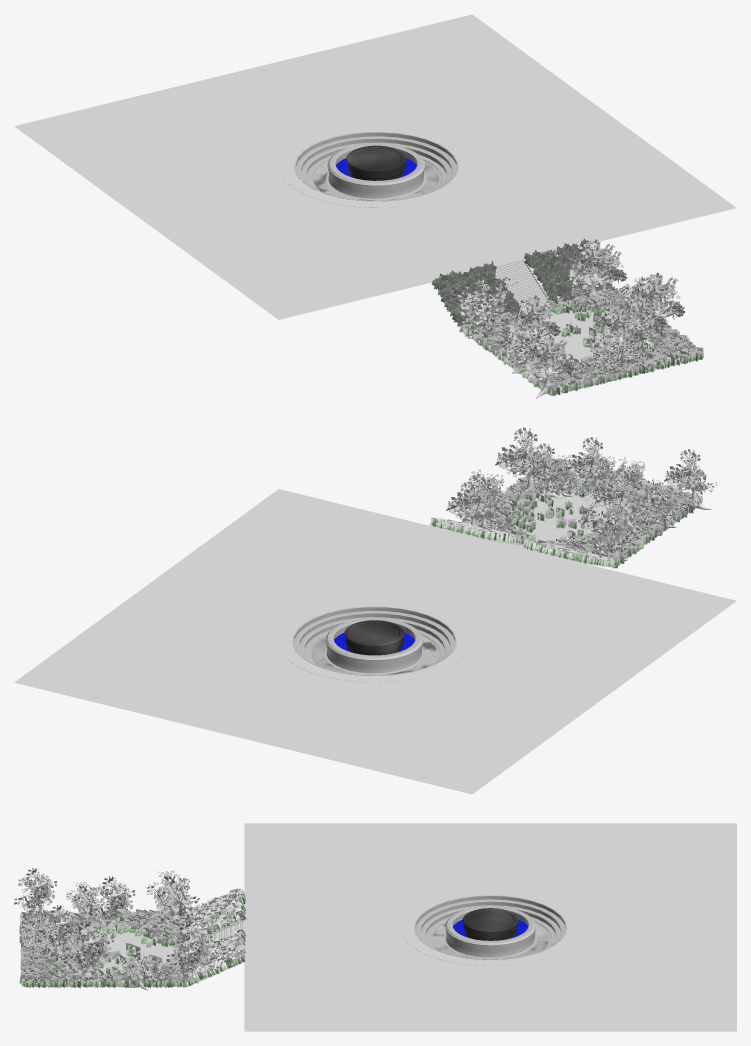
File: vvv.fbx
The picture shows the model from 3 angles, top to bottom: view 1: azimuth 30°, elevation 25°; view 2: azimuth 150°, elevation 25°; view 3: azimuth 270°, elevation 25°; orthographic projection. The views are drawn at different scales.
Parts seen in each view (by area): view 1: Plane.001, fountain, Circle, Plane|tree5|Dupli|23.1, Plane|tree2|Dupli|0.1, Plane, Plane|tree2|Dupli|16.1, Plane|tree2|Dupli|20.1, Plane|tree2|Dupli|4.1, Plane|tree2|Dupli|12.1, Floor, Plane|tree5|Dupli|19.1 (+2 smaller); view 2: Plane.001, fountain, Circle, Plane|tree5|Dupli|23.1, Plane, Plane|tree2|Dupli|4.1, Plane|tree2|Dupli|0.1, Plane|tree2|Dupli|20.1, Plane|tree2|Dupli|16.1, Plane|tree2|Dupli|12.1, Plane|tree5|Dupli|19.1, Plane|tree2|Dupli|8.1 (+2 smaller); view 3: Plane.001, fountain, Circle, Plane|tree2|Dupli|4.1, Plane|tree5|Dupli|23.1, Plane, Plane|tree2|Dupli|16.1, Plane|tree2|Dupli|20.1, Plane|tree2|Dupli|12.1, Plane|tree2|Dupli|0.1, Plane|tree2|Dupli|24.1, Plane|tree5|Dupli|19.1 (+2 smaller).
Boxes of the visible parts, x1,y1,x2,y2 form: Plane.001: (14,14,736,319); fountain: (294,132,458,201); Circle: (279,126,473,207); Plane|tree5|Dupli|23.1: (453,275,518,338); Plane|tree2|Dupli|0.1: (568,239,621,294); Plane: (471,310,695,396); Plane|tree2|Dupli|16.1: (508,295,560,344); Plane|tree2|Dupli|20.1: (525,335,573,398); Plane|tree2|Dupli|4.1: (629,272,684,340); Plane|tree2|Dupli|12.1: (595,304,645,354); Floor: (495,260,549,313); Plane|tree5|Dupli|19.1: (501,327,548,373); Plane.001: (14,489,736,794); fountain: (292,606,456,675); Circle: (277,600,471,682); Plane|tree5|Dupli|23.1: (578,494,635,561); Plane: (511,489,702,558); Plane|tree2|Dupli|4.1: (495,427,556,496); Plane|tree2|Dupli|0.1: (451,473,509,527); Plane|tree2|Dupli|20.1: (664,449,717,509); Plane|tree2|Dupli|16.1: (595,469,652,526); Plane|tree2|Dupli|12.1: (566,437,621,500); Plane|tree5|Dupli|19.1: (640,479,682,528); Plane|tree2|Dupli|8.1: (521,443,569,498); Plane.001: (244,823,736,1031); fountain: (414,895,567,960); Circle: (400,889,580,965); Plane|tree2|Dupli|4.1: (64,921,113,976); Plane|tree5|Dupli|23.1: (146,870,199,918); Plane: (23,925,187,986); Plane|tree2|Dupli|16.1: (89,876,135,931); Plane|tree2|Dupli|20.1: (14,868,56,914); Plane|tree2|Dupli|12.1: (38,905,82,958); Plane|tree2|Dupli|0.1: (166,922,212,972); Plane|tree2|Dupli|24.1: (169,936,208,983); Plane|tree5|Dupli|19.1: (65,881,104,915).
Bounding box in the file's own units: 6 × 0.8234 × 8.8.
